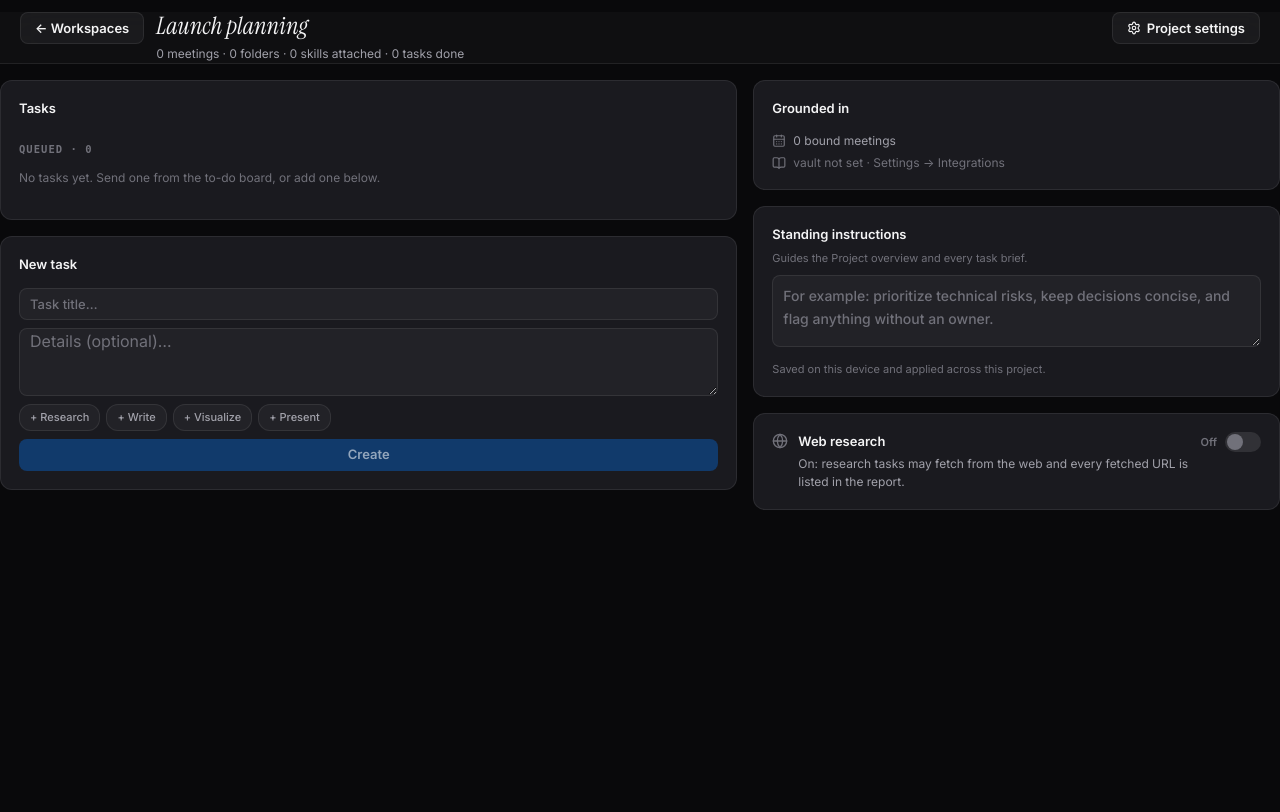
WorkspaceDetailView two-pane project screen › reveals the engine and sources only after Project settings opens
The width and height of the screenshot is (1280, 812).
Expected: the text "Vault notes via search" is not shown
Click the button "Project settings" at (1186, 28), box top-left (1112, 12), bottom-right (1260, 44)
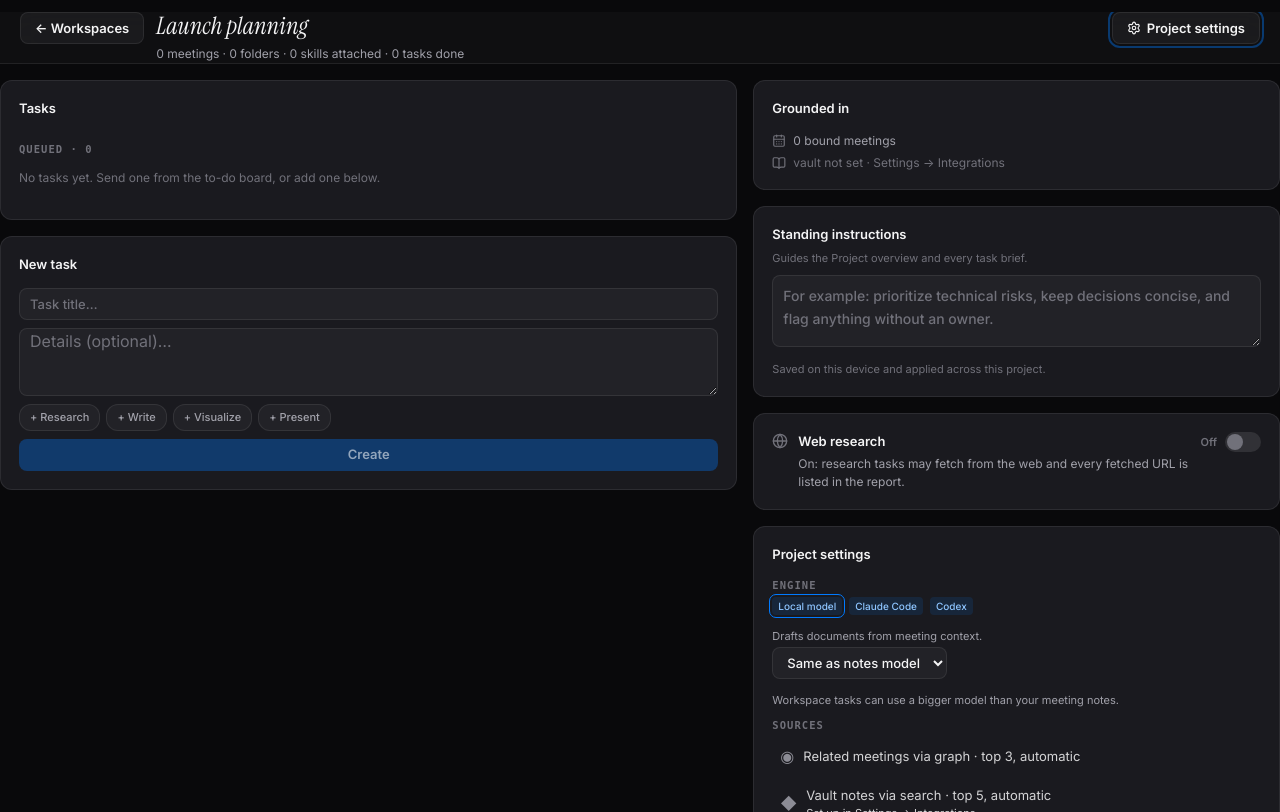
Expected: the element named "Workspace engine" is shown, top-left (772, 597), bottom-right (973, 615)
Expected: the text "Vault notes via search" is shown, top-left (806, 787), bottom-right (941, 803)
